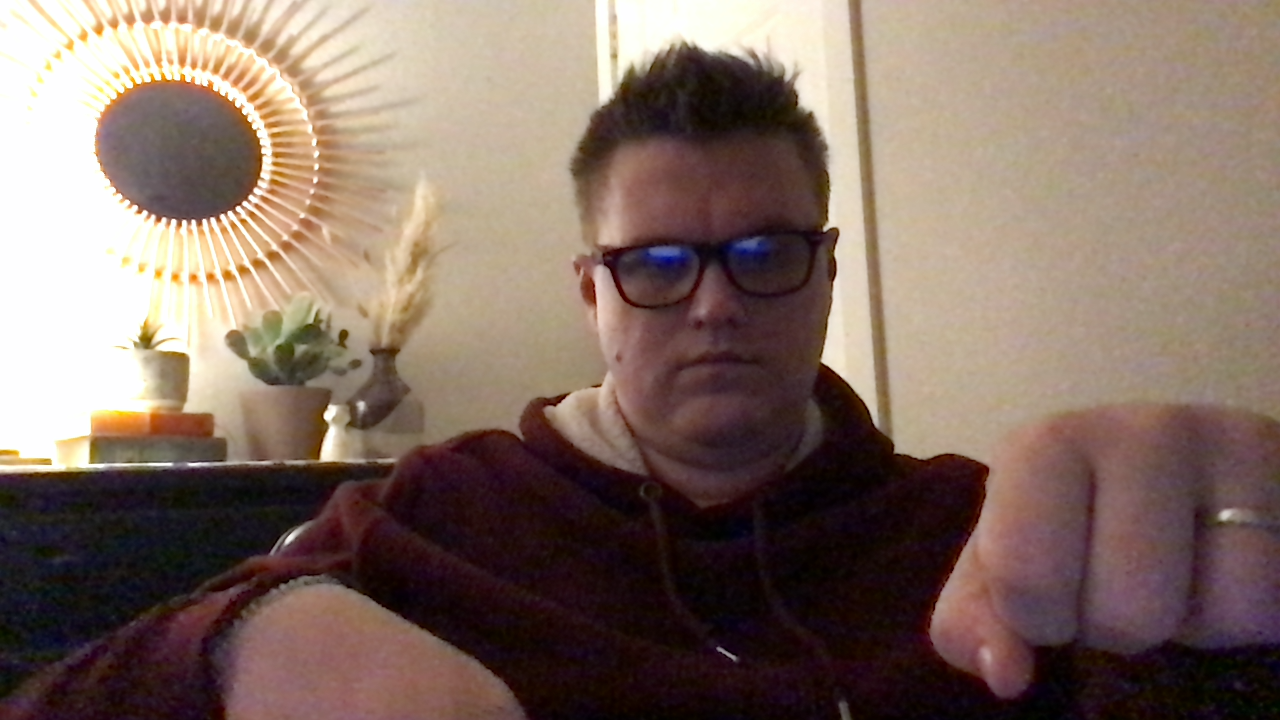yes: (926, 397, 1280, 696)
